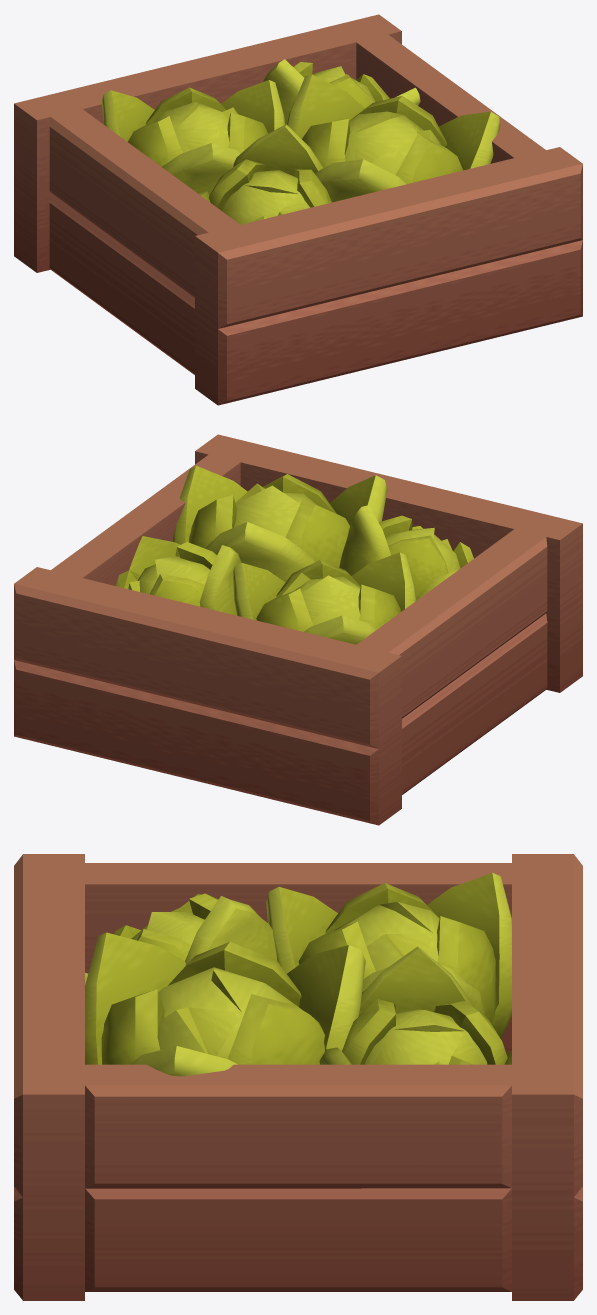
File: crate_lettuce.gltf
3 renders of one model, top to bottom at view 1: azimuth 30°, elevation 25°; view 2: azimuth 150°, elevation 25°; view 3: azimuth 270°, elevation 25°, orthographic. The views are drawn at different scales.
Visible parts, largest first — view 1: crate_lettuce; view 2: crate_lettuce; view 3: crate_lettuce.
Part boxes in pixels (left/top/right/bottom): crate_lettuce: left=14, top=14, right=582, bottom=405; crate_lettuce: left=14, top=434, right=582, bottom=825; crate_lettuce: left=14, top=854, right=582, bottom=1300.
Size of the model in its own units: 2 by 0.9981 by 2.
Materials: 1 (1 with a texture image).
